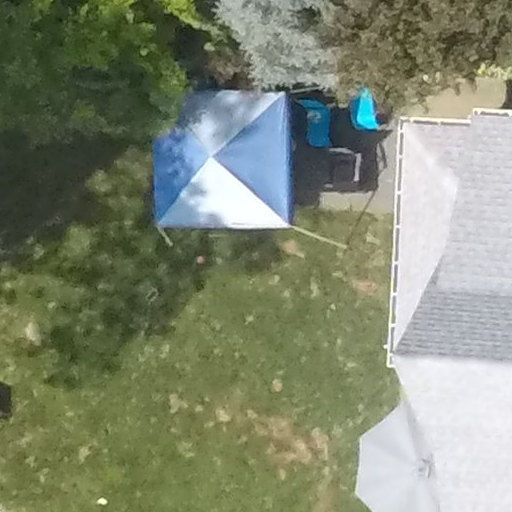tent: (144, 73, 312, 265)
